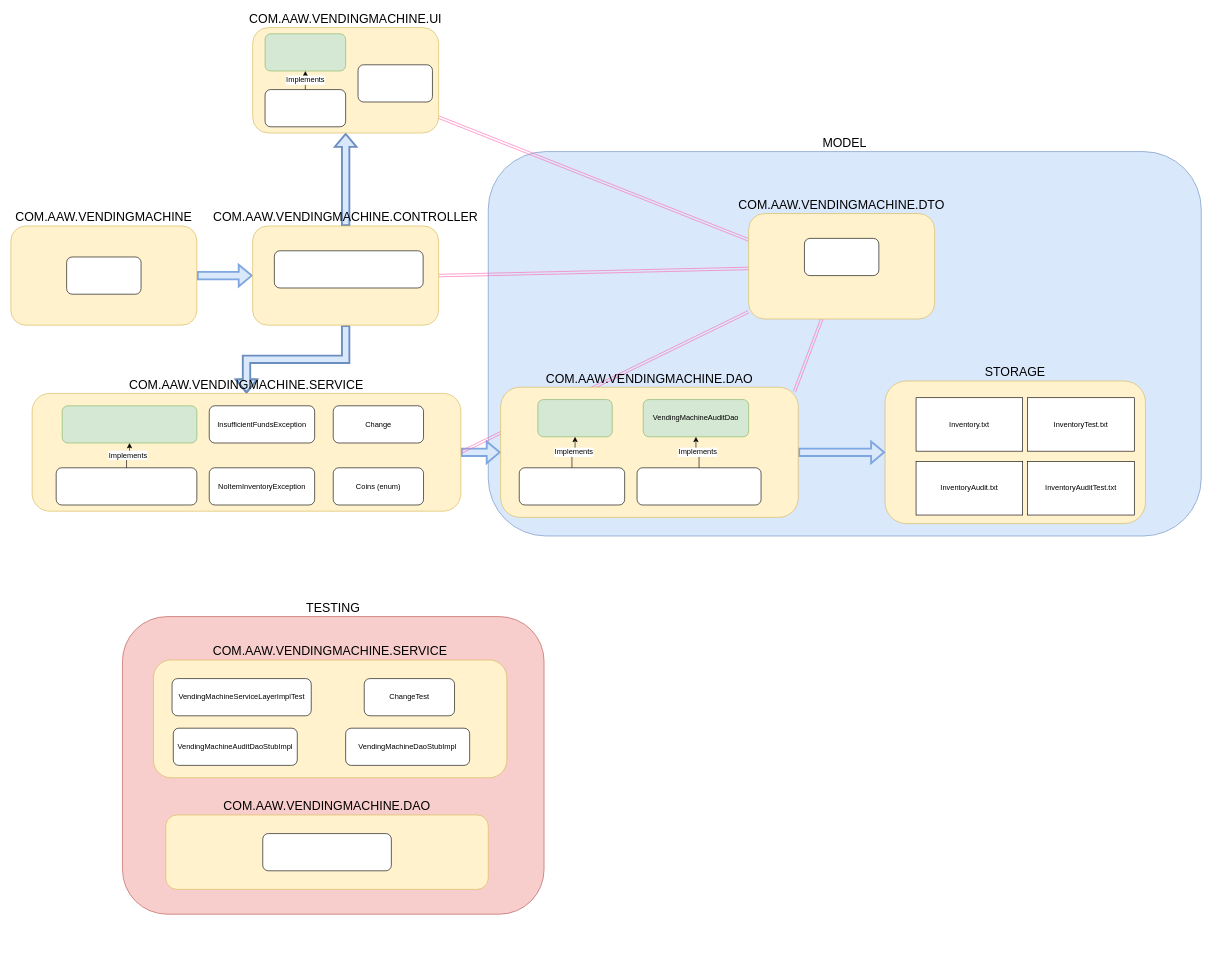
Some shapes in this 1212 by 955 pixel diagram are drawn without their labels. Here are the shapes that lost their labels. From the top down, the centre of each, then its label:
point (305, 52): UserIO
point (394, 83): VendingMachineView
point (305, 108): UserIOConsoleImpl
point (103, 275): App.java
point (348, 269): VendingMachineController(view, service)
point (841, 257): VendingMachineItem
point (129, 424): VendingMachineServiceLayer
point (574, 418): VendingMachineDao
point (126, 486): VendingMachineServiceLayerImpl
point (572, 486): VendingMachineDaoFileImpl
point (698, 486): VendingMachineAuditDaoFileImpl
point (326, 852): VendingMachineDaoFileImplTest
